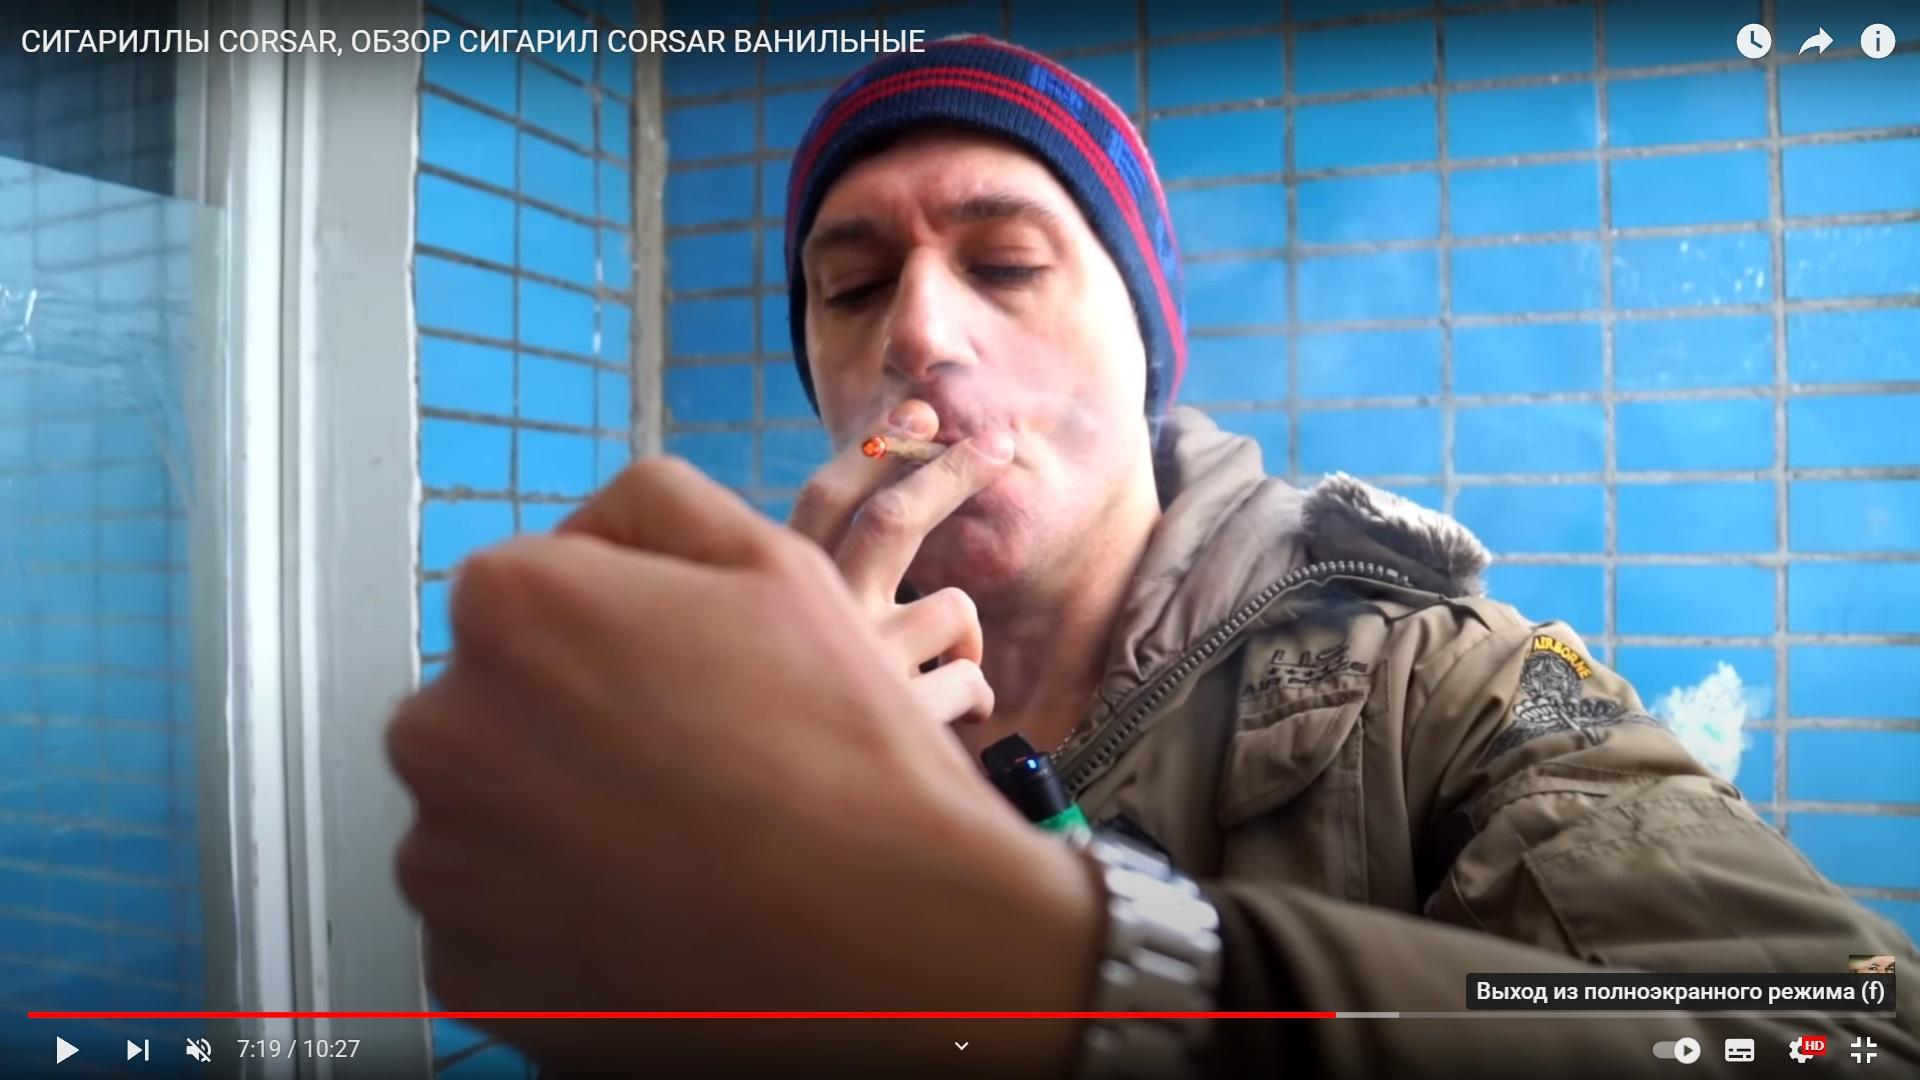cigarette: (861, 435, 949, 460)
